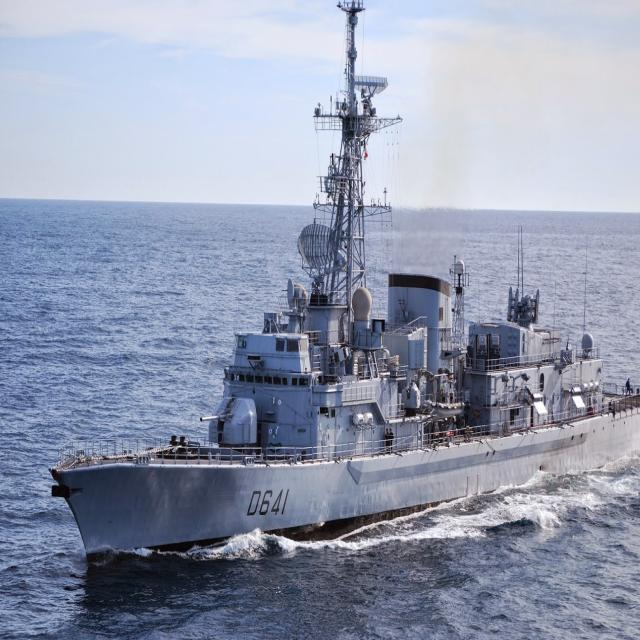navalvessels: (38, 0, 640, 602)
